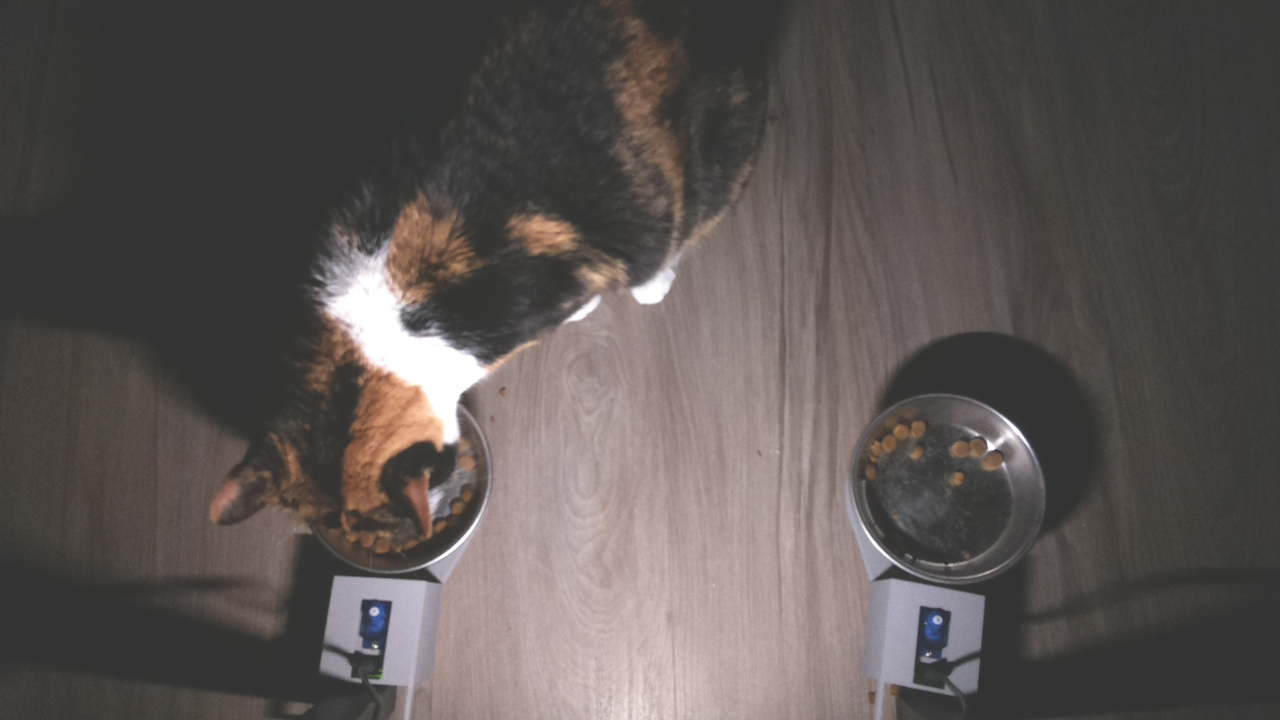bella_eating: (205, 293, 502, 594)
open_bowl: (842, 387, 1058, 587)
